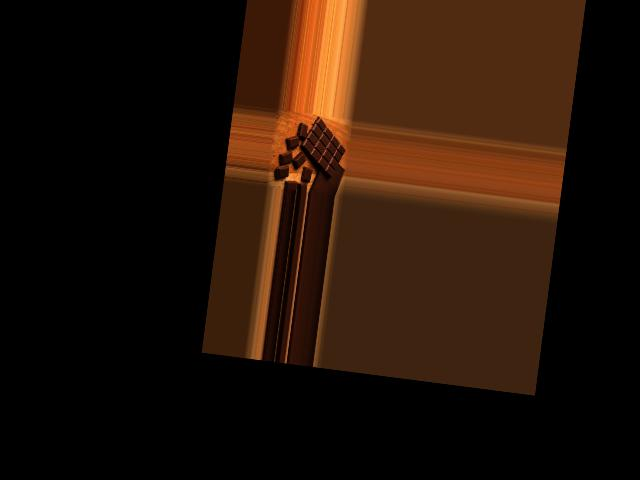chocolate: (294, 116, 349, 179)
